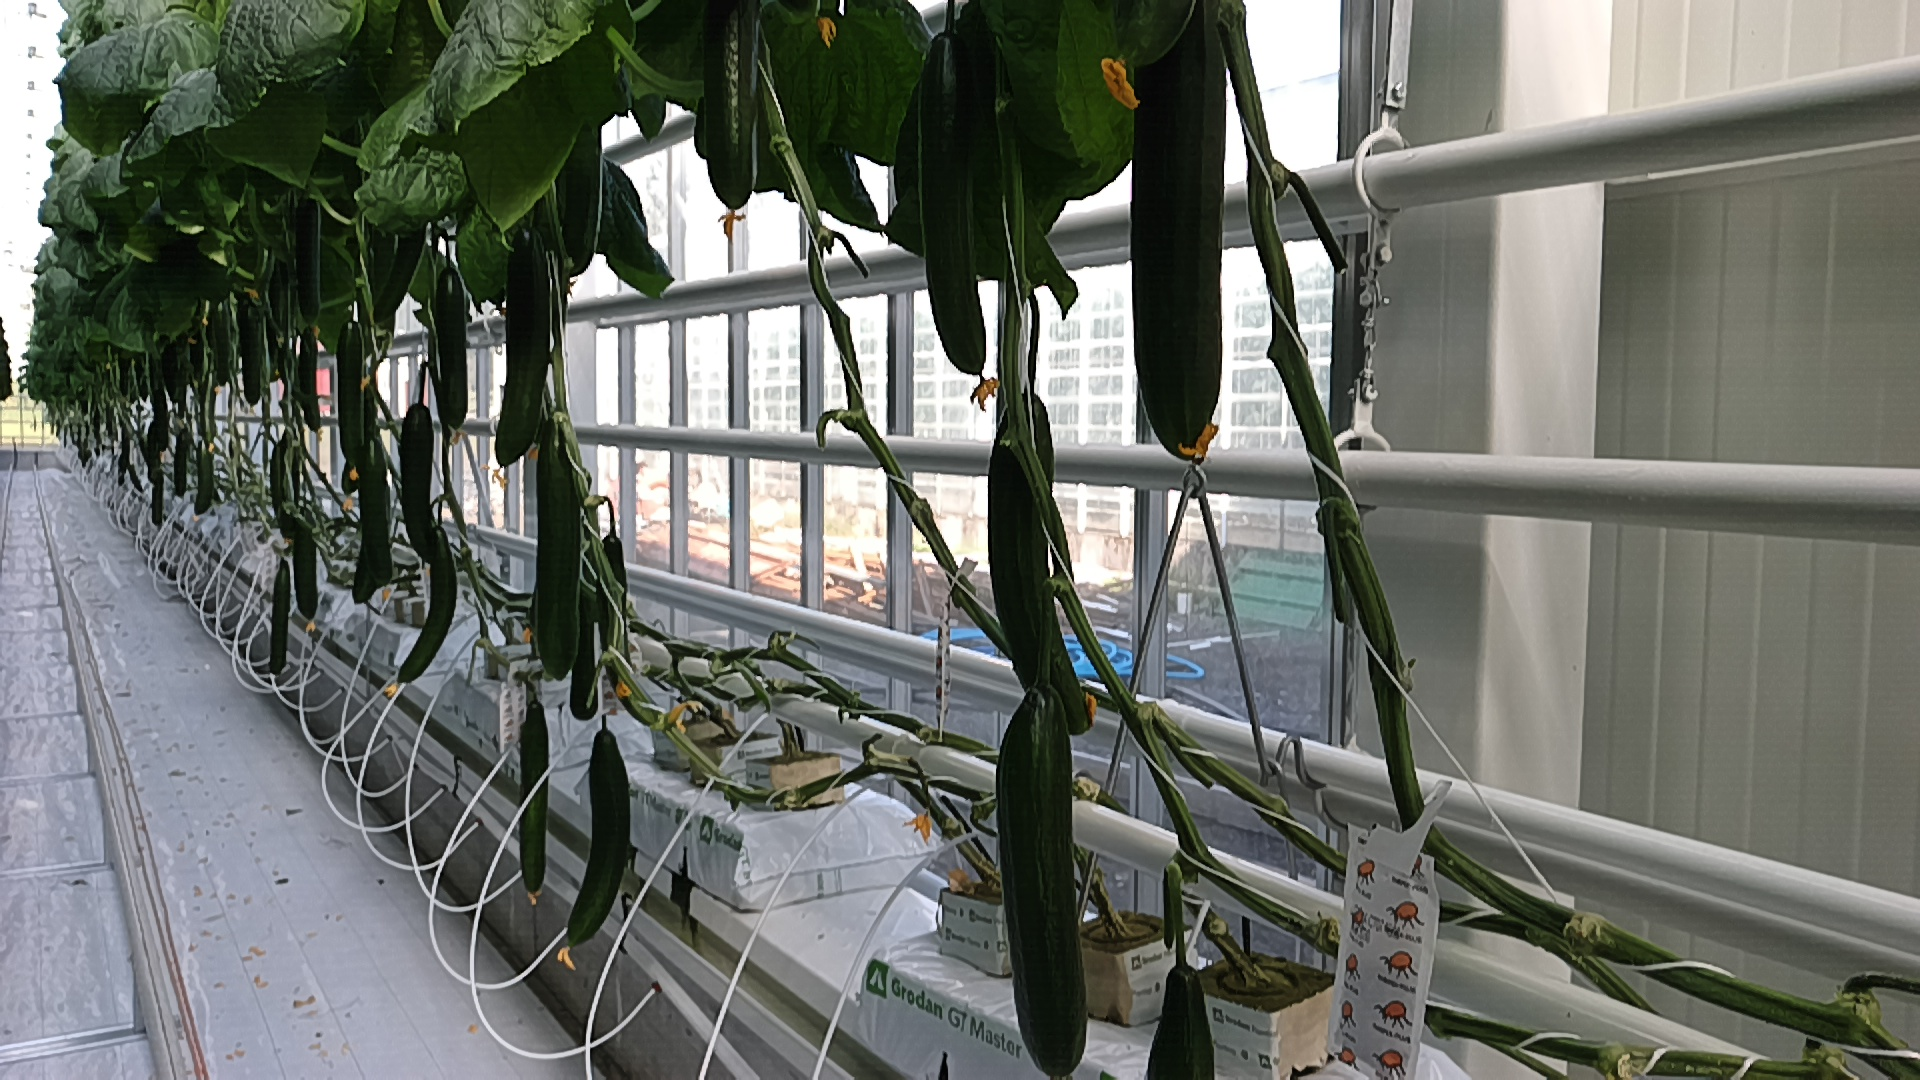gurka: (913, 22, 1007, 378), (559, 713, 641, 953), (521, 411, 589, 688), (392, 396, 454, 571), (510, 684, 555, 905), (429, 257, 476, 433), (264, 554, 291, 680)
